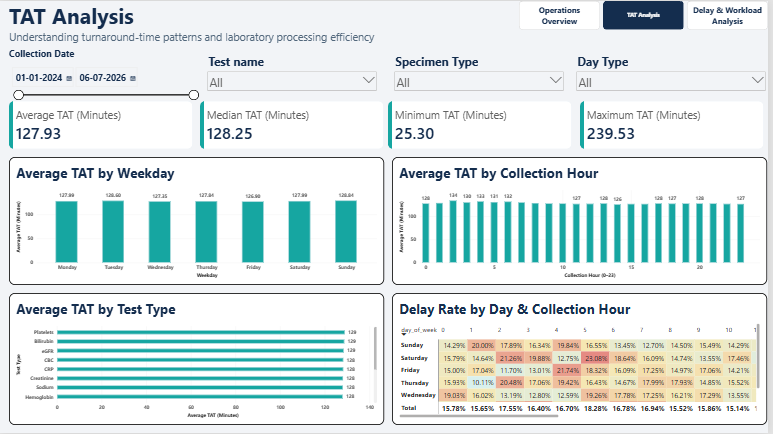

What the dashboard file says about the page in this screenshot:
{"tool":"powerbi","page":{"name":"TAT Analysis","canvas":[1920,1080],"ordinal":1},"visuals":[{"type":"textbox","box":[22.5,0,1837.5,165],"z":0},{"type":"cardVisual","fields":{"Data":["labpulse lab_results.Average TAT (Minutes)"]},"box":[22.5,250,459,120],"z":1000},{"type":"cardVisual","fields":{"Data":["labpulse lab_results.Median TAT (Minutes)"]},"box":[500,250,459,120],"z":2000},{"type":"cardVisual","fields":{"Data":["labpulse lab_results.Minimum TAT (Minutes)"]},"box":[970,250,459,120],"z":3000},{"type":"cardVisual","fields":{"Data":["labpulse lab_results.Maximum TAT (Minutes)"]},"box":[1450,250,459,120],"z":4000},{"type":"clusteredColumnChart","title":"Average TAT by Weekday","fields":{"Category":["labpulse lab_results.day_of_week"],"Y":["labpulse lab_results.Average TAT (Minutes)"]},"box":[22.2,390,938,320],"z":5000},{"type":"clusteredColumnChart","title":"Average TAT by Collection Hour","fields":{"Category":["labpulse lab_results.collection_hour"],"Y":["labpulse lab_results.Average TAT (Minutes)"]},"box":[981,390,938,320],"z":6000},{"type":"clusteredBarChart","title":"Average TAT by Test Type","fields":{"Category":["labpulse lab_results.test_name"],"Y":["labpulse lab_results.Average TAT (Minutes)"]},"box":[22.5,730,938,330],"z":7000},{"type":"pivotTable","title":"Delay Rate by Day & Collection Hour","fields":{"Columns":["labpulse lab_results.collection_hour"],"Rows":["labpulse lab_results.day_of_week"],"Values":["labpulse lab_results.Delay %"]},"box":[981,730,938,330],"z":8000},{"type":"slicer","title":"Collection Date","fields":{"Values":["labpulse lab_results.collection_date"]},"box":[22.5,115,477.5,135],"z":9000},{"type":"slicer","fields":{"Values":["labpulse lab_results.test_name"]},"box":[512.5,130,435,105],"z":10000},{"type":"slicer","fields":{"Values":["labpulse lab_results.specimen_type"]},"box":[979,130,435,105],"z":11000},{"type":"slicer","fields":{"Values":["labpulse lab_results.day_type"]},"box":[1435,130,485,105],"z":12000},{"type":"pageNavigator","box":[1297.5,0,622,72],"z":12001}]}

Visuals, with their boxes in screenshot pixels (x1, y1, x2, y2), scaled from the page's 1920x1080 canvas onto the 773x434 screenshot:
textbox: {"x1": 9, "y1": 0, "x2": 749, "y2": 66}
cardVisual - labpulse lab_results.Average TAT (Minutes): {"x1": 9, "y1": 100, "x2": 194, "y2": 149}
cardVisual - labpulse lab_results.Median TAT (Minutes): {"x1": 201, "y1": 100, "x2": 386, "y2": 149}
cardVisual - labpulse lab_results.Minimum TAT (Minutes): {"x1": 391, "y1": 100, "x2": 575, "y2": 149}
cardVisual - labpulse lab_results.Maximum TAT (Minutes): {"x1": 584, "y1": 100, "x2": 769, "y2": 149}
"Average TAT by Weekday" clusteredColumnChart: {"x1": 9, "y1": 157, "x2": 387, "y2": 285}
"Average TAT by Collection Hour" clusteredColumnChart: {"x1": 395, "y1": 157, "x2": 772, "y2": 285}
"Average TAT by Test Type" clusteredBarChart: {"x1": 9, "y1": 293, "x2": 387, "y2": 426}
"Delay Rate by Day & Collection Hour" pivotTable: {"x1": 395, "y1": 293, "x2": 772, "y2": 426}
"Collection Date" slicer: {"x1": 9, "y1": 46, "x2": 201, "y2": 100}
slicer - labpulse lab_results.test_name: {"x1": 206, "y1": 52, "x2": 381, "y2": 94}
slicer - labpulse lab_results.specimen_type: {"x1": 394, "y1": 52, "x2": 569, "y2": 94}
slicer - labpulse lab_results.day_type: {"x1": 578, "y1": 52, "x2": 772, "y2": 94}
pageNavigator: {"x1": 522, "y1": 0, "x2": 772, "y2": 29}
